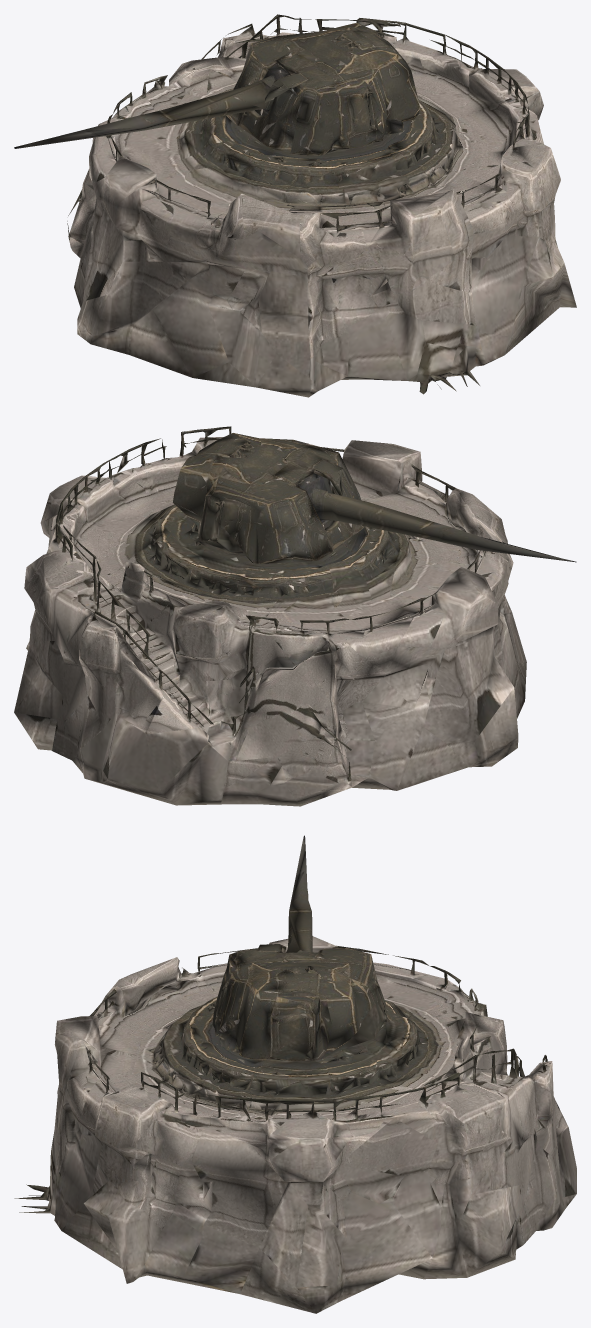
Rendered from gun_turret.glb.
The picture shows the model from 3 angles, top to bottom: view 1: azimuth 30°, elevation 25°; view 2: azimuth 150°, elevation 25°; view 3: azimuth 270°, elevation 25°; orthographic projection.
Visible parts, largest first — view 1: gun_turret; view 2: gun_turret; view 3: gun_turret.
Part boxes in pixels (x1,y1,x2,y2): gun_turret: (14,14,576,397); gun_turret: (14,426,576,806); gun_turret: (14,835,576,1313).
Bounding box in the file's own units: 1.9 × 0.8336 × 1.71.
1 material, 1 textured.
